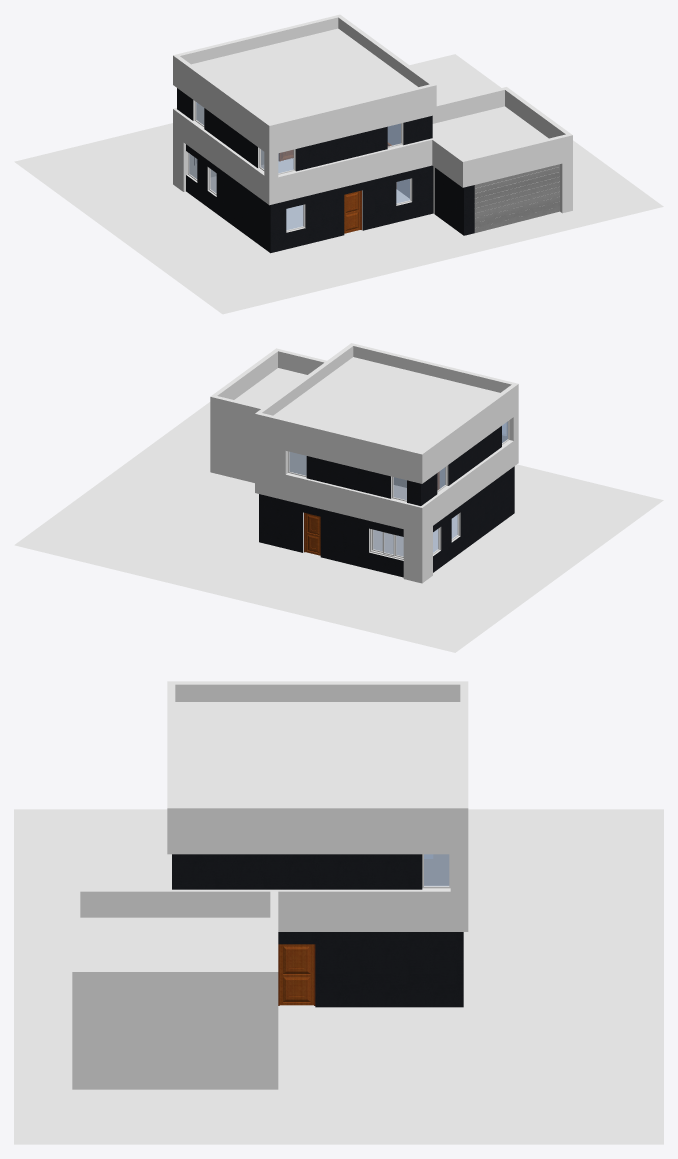
3 renders of one model, top to bottom at view 1: azimuth 30°, elevation 25°; view 2: azimuth 150°, elevation 25°; view 3: azimuth 270°, elevation 25°, orthographic. The views are drawn at different scales.
Visible parts, largest first — view 1: Root Node, 5744, 6044, 5957, Garage_Door, 6054, Door1, W2; view 2: Root Node, 5744, 6044, 5957, 6054, W3, Door1#1; view 3: Root Node, 5744, 6044, 5957, 6054, Door1#2, W1.
Part boxes in pixels (x1=…): Root Node: x1=14, y1=54, x2=663, y2=314; 5744: x1=173, y1=14, x2=436, y2=253; 6044: x1=191, y1=28, x2=417, y2=122; 5957: x1=432, y1=87, x2=572, y2=235; Garage_Door: x1=474, y1=164, x2=559, y2=232; 6054: x1=432, y1=106, x2=548, y2=158; Door1: x1=344, y1=190, x2=361, y2=233; W2: x1=286, y1=204, x2=304, y2=231; Root Node: x1=14, y1=402, x2=663, y2=652; 5744: x1=255, y1=343, x2=518, y2=583; 6044: x1=273, y1=357, x2=499, y2=451; 5957: x1=210, y1=348, x2=326, y2=482; 6054: x1=234, y1=368, x2=307, y2=407; W3: x1=370, y1=529, x2=403, y2=559; Door1#1: x1=304, y1=512, x2=320, y2=555; Root Node: x1=14, y1=809, x2=663, y2=1144; 5744: x1=167, y1=681, x2=468, y2=1007; 6044: x1=175, y1=702, x2=460, y2=804; 5957: x1=72, y1=888, x2=278, y2=1089; 6054: x1=80, y1=917, x2=270, y2=968; Door1#2: x1=278, y1=944, x2=315, y2=1005; W1: x1=422, y1=854, x2=450, y2=888.
Size of the model in its own units: 25.06 by 7 by 20.52.
Materials: 353 (155 with a texture image).
